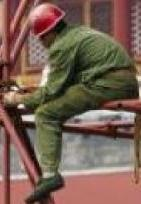boots: (24, 171, 65, 203)
gloves: (2, 89, 19, 105)
hard-hat: (28, 1, 65, 37)
ppe-suit: (21, 21, 141, 177)
